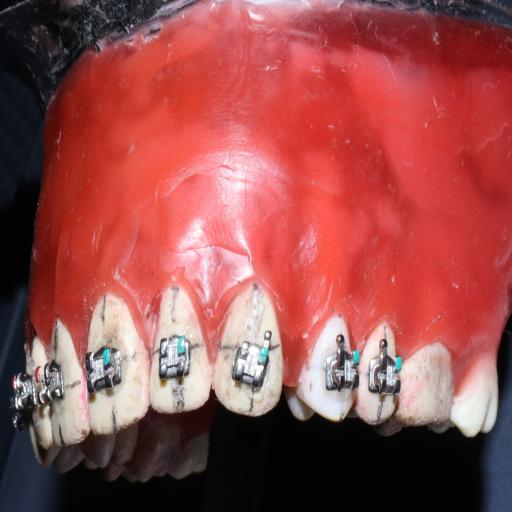incorrect_brace: (148, 286, 211, 415), (230, 335, 270, 388), (156, 336, 193, 379)
